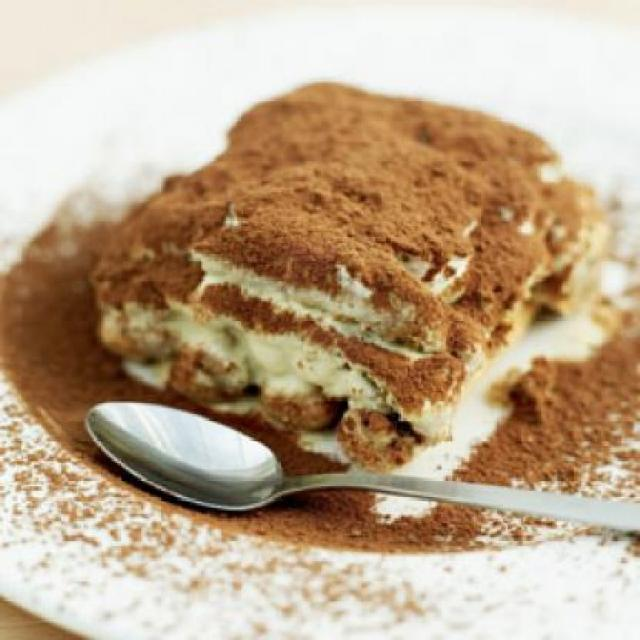Tiramisu: (119, 68, 558, 474)
